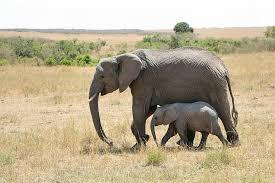elephant: (89, 48, 238, 148)
